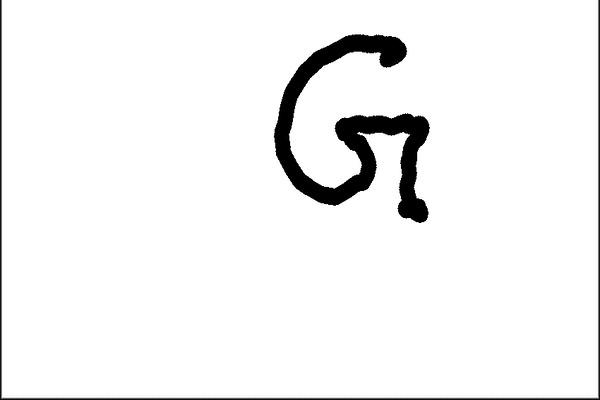G: (268, 28, 432, 226)
